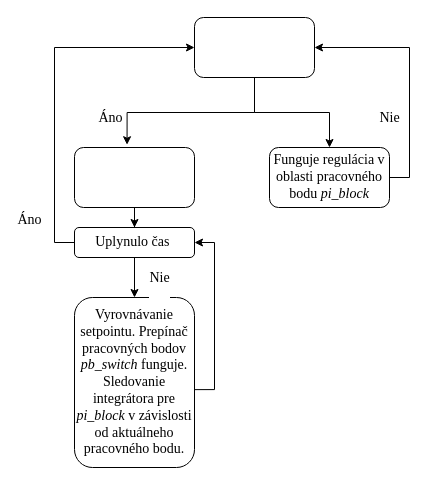
This 435x487 diagram has some shape labels left out. The shapes that lost their labels are listed below. From the top down, each one's centre as x and y in pixels, then its label:
At pixel 254 47: "Skok v sp_global".
At pixel 134 177: "Spustenie časovača na dobu regulácie + 10 sekúnd".
